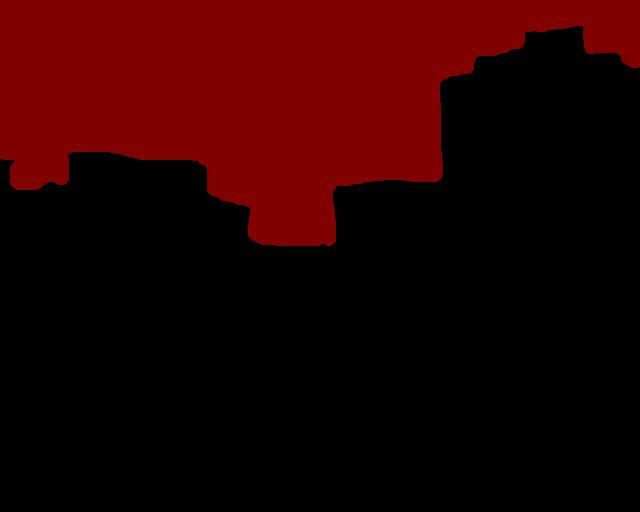Sky: (1, 1, 639, 246)
